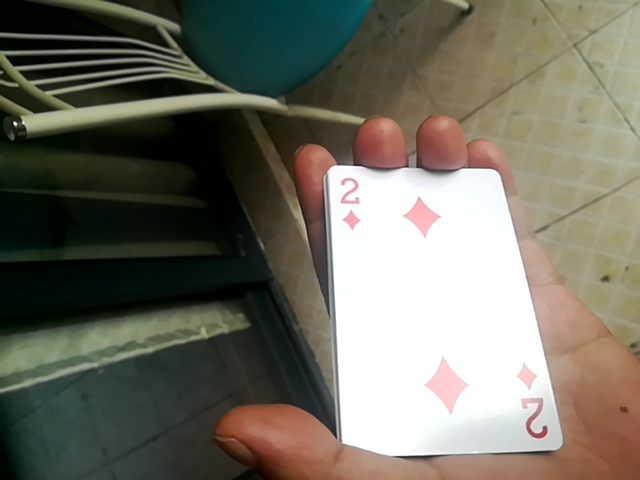fk 2: (324, 159, 555, 467)
